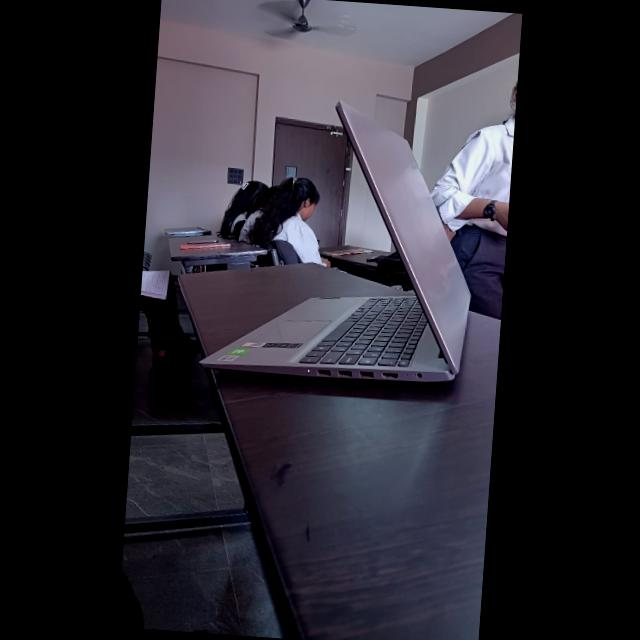laptop: (191, 83, 482, 459)
